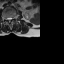CCS_normal: (8, 15, 10, 24)
LFS_normal: (12, 15, 14, 21)
LLS_normal: (10, 15, 12, 21)
RFS_stenosis: (5, 15, 6, 21)
RLS_normal: (6, 15, 8, 22)
